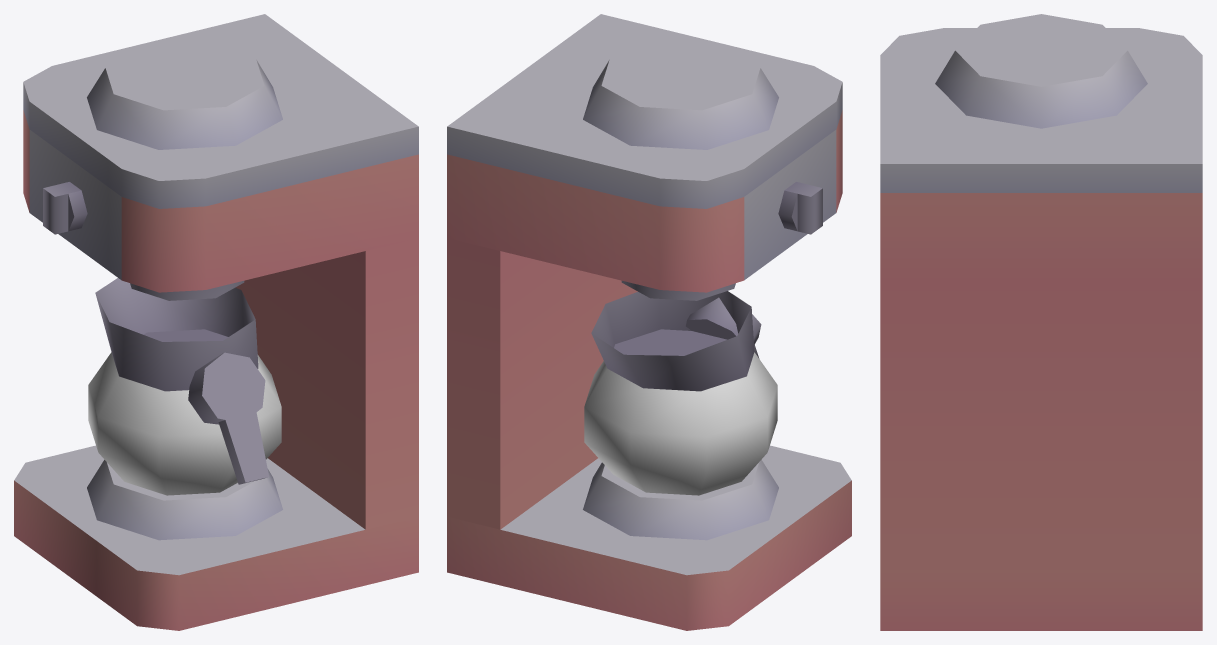
Rendered from coffee-machine-classic 1.glb.
3 renders of one model, left to right at view 1: azimuth 30°, elevation 25°; view 2: azimuth 150°, elevation 25°; view 3: azimuth 270°, elevation 25°, orthographic. The views are drawn at different scales.
Parts seen in each view (by area): view 1: coffee-machine-classic 1; view 2: coffee-machine-classic 1; view 3: coffee-machine-classic 1.
Boxes of the visible parts, <box> form: coffee-machine-classic 1: <box>14,14,418,630</box>; coffee-machine-classic 1: <box>447,14,851,630</box>; coffee-machine-classic 1: <box>880,14,1202,630</box>.
Bounding box in the file's own units: 0.275 × 0.4285 × 0.25.
